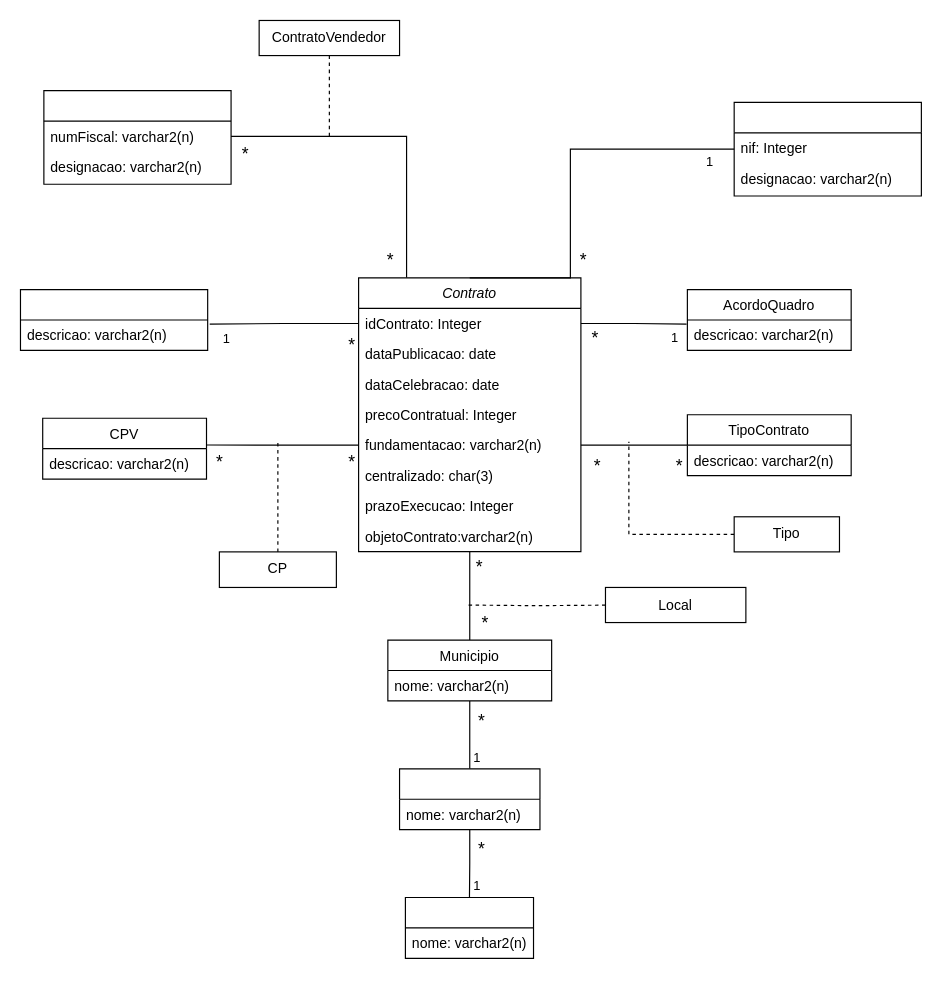
The diagram is 942 pixels wide and 983 high, and some of its shapes have lost their labels. Here are the shapes that lost their labels. From the top down, the box of each, then its label:
(43, 90, 231, 184): Vendedor
(733, 101, 921, 196): Cliente
(19, 288, 208, 350): TipoProcedimento
(398, 768, 540, 830): Distrito
(404, 896, 534, 958): Pais
